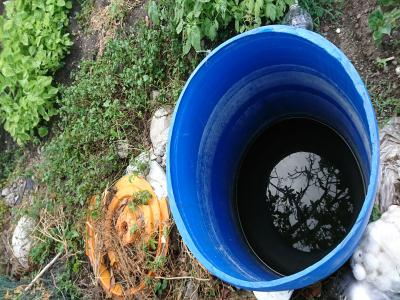bucket: (164, 21, 383, 294)
plate: (85, 172, 171, 298)
